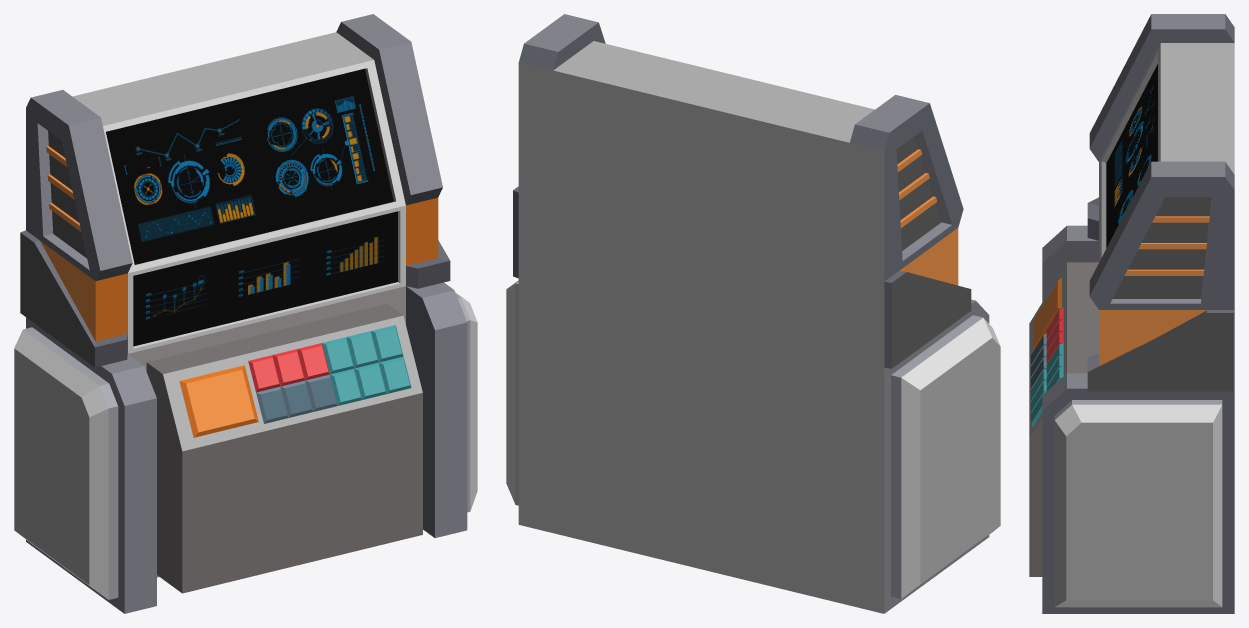
File: mashine.glb
3 renders of one model, left to right at view 1: azimuth 30°, elevation 25°; view 2: azimuth 150°, elevation 25°; view 3: azimuth 270°, elevation 25°, orthographic. The views are drawn at different scales.
Visible parts, largest first — view 1: Computer_02_primitive0, Computer_02_primitive1; view 2: Computer_02_primitive0; view 3: Computer_02_primitive0, Computer_02_primitive1.
Boxes of the visible parts, x1,y1,x2,y2 form: Computer_02_primitive0: (14, 14, 477, 613); Computer_02_primitive1: (106, 68, 397, 346); Computer_02_primitive0: (506, 14, 1000, 613); Computer_02_primitive0: (1029, 14, 1234, 613); Computer_02_primitive1: (1106, 64, 1157, 247).
Size of what is drawn, in the model's own units: 1.46 by 1.61 by 0.6868.
Materials: 2 (2 with a texture image).
